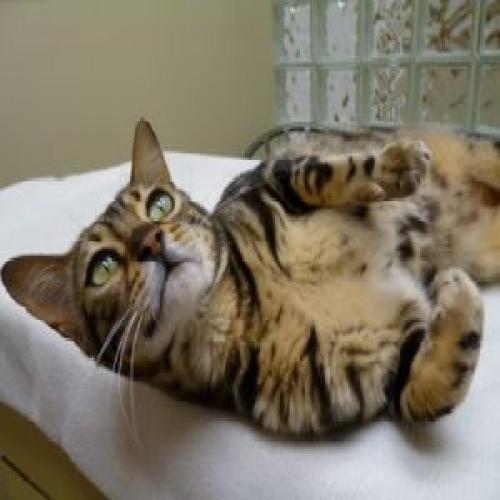bengal: (2, 117, 228, 389)
